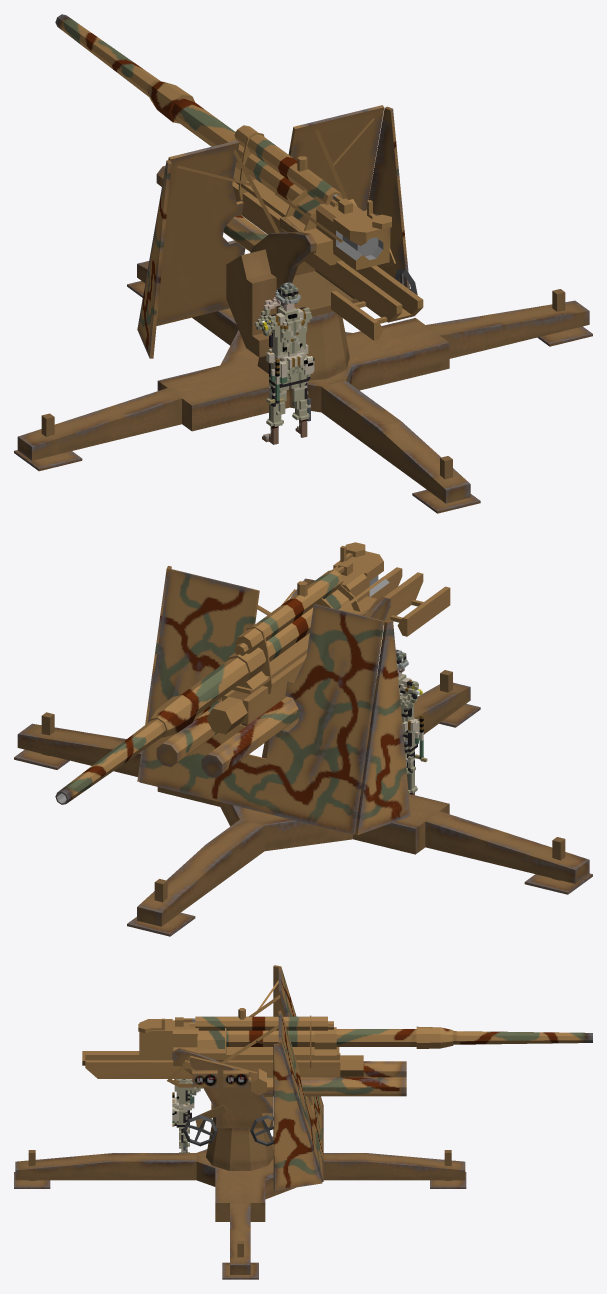
File: flak_88.glb
3 renders of one model, top to bottom at view 1: azimuth 30°, elevation 25°; view 2: azimuth 150°, elevation 25°; view 3: azimuth 270°, elevation 25°, orthographic. The views are drawn at different scales.
Visible parts, largest first — view 1: 02_turret_flak_88_turret.mesh, 00_chassis_flak_88_base.mesh, weapon_turret_0_flak_88_cannon.mesh, crew_soldier_SLOT_00_GUNNER; view 2: 02_turret_flak_88_turret.mesh, 00_chassis_flak_88_base.mesh, weapon_turret_0_flak_88_cannon.mesh, crew_soldier_SLOT_00_GUNNER; view 3: 02_turret_flak_88_turret.mesh, 00_chassis_flak_88_base.mesh, weapon_turret_0_flak_88_cannon.mesh, crew_soldier_SLOT_00_GUNNER.
Part boxes in pixels (<box>): 02_turret_flak_88_turret.mesh: <box>137,105,423,358</box>; 00_chassis_flak_88_base.mesh: <box>14,261,592,513</box>; weapon_turret_0_flak_88_cannon.mesh: <box>55,14,391,270</box>; crew_soldier_SLOT_00_GUNNER: <box>255,282,314,444</box>; 02_turret_flak_88_turret.mesh: <box>137,566,450,835</box>; 00_chassis_flak_88_base.mesh: <box>14,670,592,936</box>; weapon_turret_0_flak_88_cannon.mesh: <box>55,542,389,804</box>; crew_soldier_SLOT_00_GUNNER: <box>375,649,427,795</box>; 02_turret_flak_88_turret.mesh: <box>82,965,406,1190</box>; 00_chassis_flak_88_base.mesh: <box>14,1117,466,1279</box>; weapon_turret_0_flak_88_cannon.mesh: <box>138,1017,592,1057</box>; crew_soldier_SLOT_00_GUNNER: <box>172,1079,202,1152</box>.
Size of the model in its own units: 6.72 by 2.84 by 8.3.
Materials: 36 (1 with a texture image).
